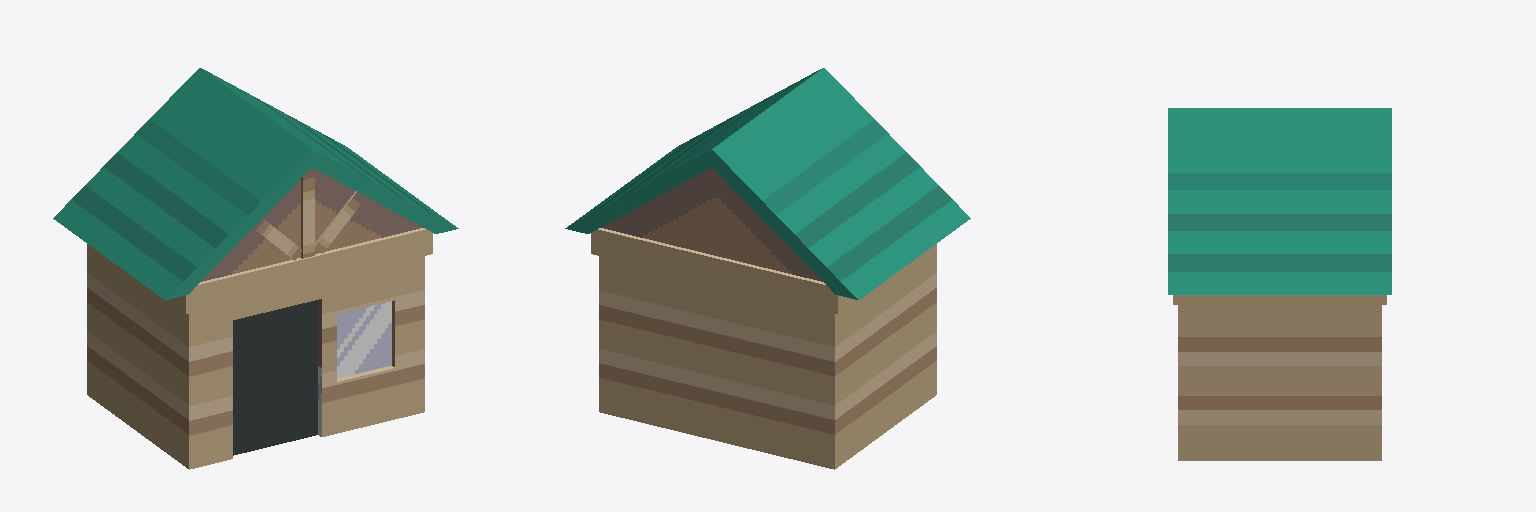
3 views of the same model, side by side, from view 1: azimuth 30°, elevation 25°; view 2: azimuth 150°, elevation 25°; view 3: azimuth 270°, elevation 25° (orthographic).
Parts seen in each view (by area): view 1: BaseHouse_light, Roof_light, Door_light, Wood2_light, Wood3_light, Wood1_light; view 2: BaseHouse_light, Roof_light; view 3: Roof_light, BaseHouse_light.
Boxes of the visible parts, x1,y1,x2,y2 form: BaseHouse_light: [87, 169, 432, 469]; Roof_light: [53, 68, 458, 299]; Door_light: [233, 300, 317, 455]; Wood2_light: [301, 168, 314, 258]; Wood3_light: [315, 191, 366, 253]; Wood1_light: [254, 218, 301, 260]; BaseHouse_light: [591, 168, 936, 469]; Roof_light: [565, 68, 970, 299]; Roof_light: [1168, 108, 1391, 294]; BaseHouse_light: [1173, 295, 1386, 460].
Size of the model in its own units: 4.99 by 4.79 by 3.3.
1 materials, 1 textured.